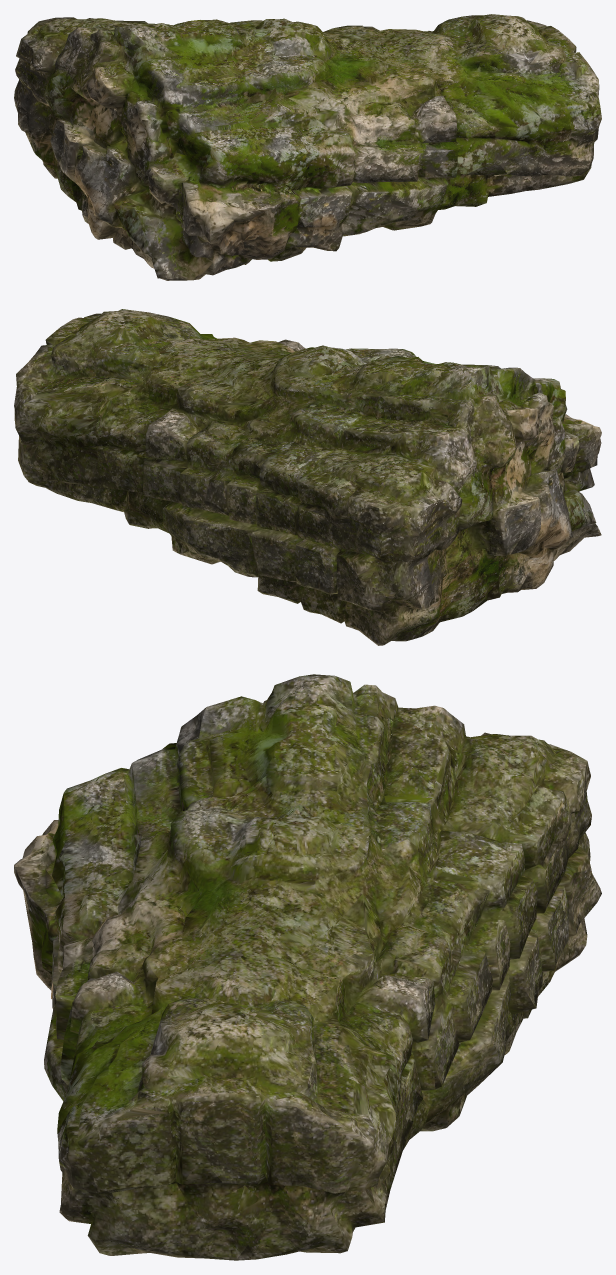
Rendered from ROC_RocaMusgo_02_LOD0.fbx.
The picture shows the model from 3 angles, top to bottom: view 1: azimuth 30°, elevation 25°; view 2: azimuth 150°, elevation 25°; view 3: azimuth 270°, elevation 25°; orthographic projection. The views are drawn at different scales.
Visible parts, largest first — view 1: ROC_RocaMusgo_02_Mesh000; view 2: ROC_RocaMusgo_02_Mesh000; view 3: ROC_RocaMusgo_02_Mesh000.
Boxes of the visible parts, bbox=[...] form: ROC_RocaMusgo_02_Mesh000: bbox=[14, 14, 601, 280]; ROC_RocaMusgo_02_Mesh000: bbox=[14, 309, 601, 645]; ROC_RocaMusgo_02_Mesh000: bbox=[14, 674, 601, 1260].
Bounding box in the file's own units: 3.2 × 1.28 × 2.3.
